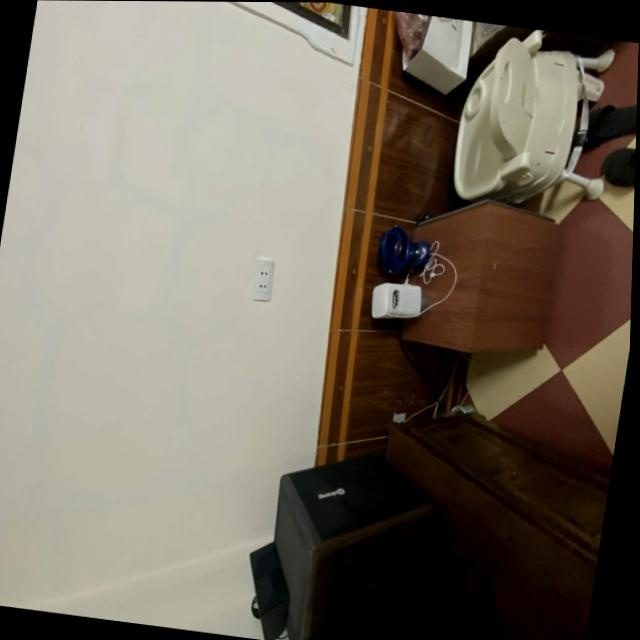outlet: (250, 257, 276, 301)
